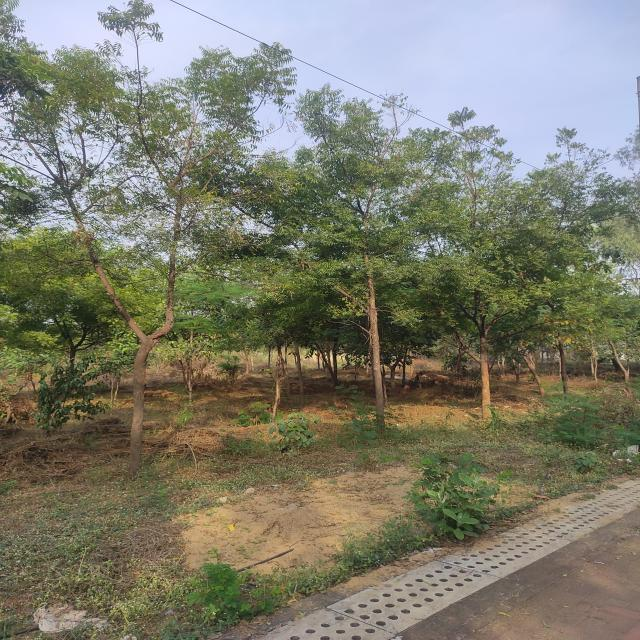Neem Tree: (23, 64, 237, 367), (283, 117, 491, 360)
